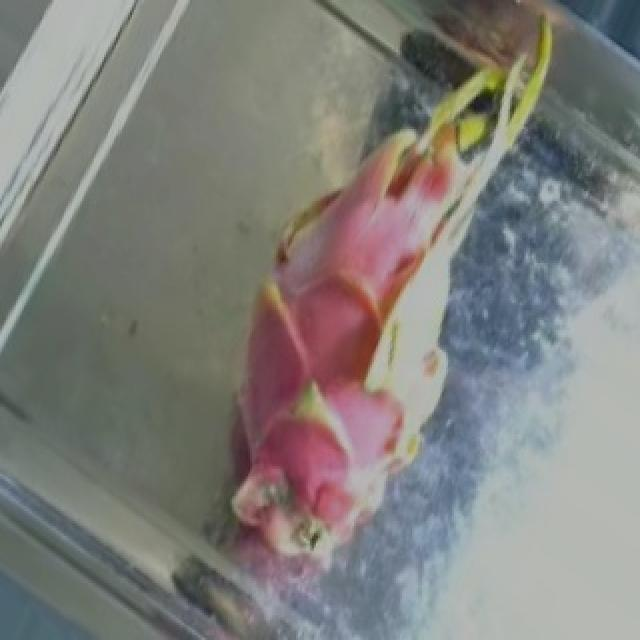fruit: (134, 203, 540, 622), (166, 2, 572, 390)
